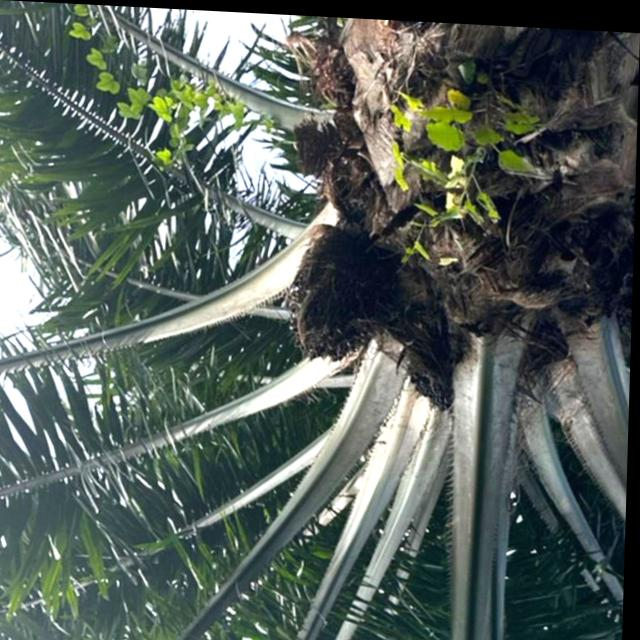ripe: (286, 217, 419, 375)
